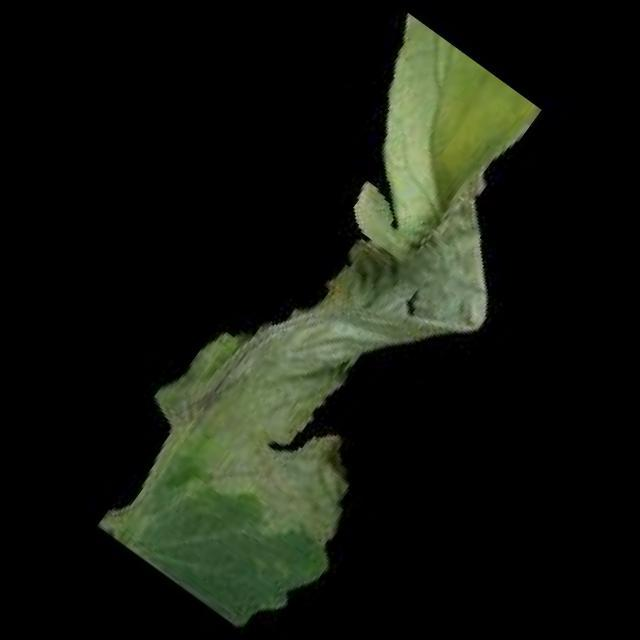Tomato late blight leaf: (49, 8, 619, 640)
